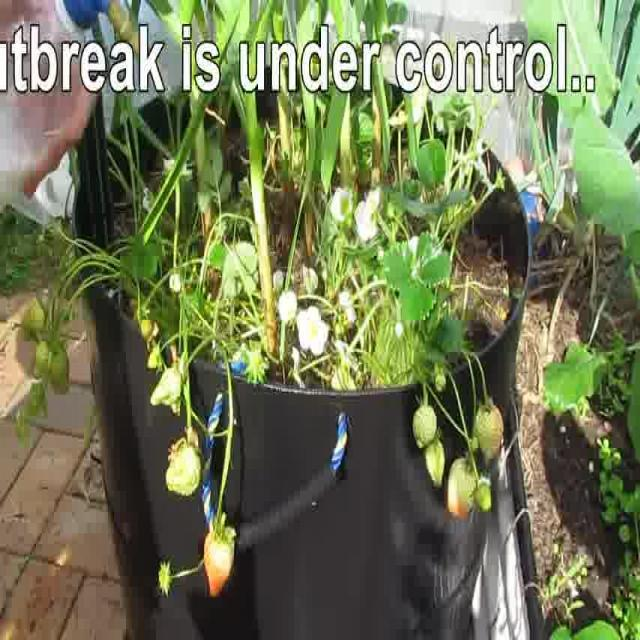Fruta sana: (204, 512, 238, 598), (165, 438, 202, 496), (150, 352, 186, 404), (33, 330, 60, 380), (48, 340, 70, 394), (21, 298, 47, 342), (473, 468, 493, 512), (26, 382, 48, 419), (156, 555, 174, 598), (331, 364, 356, 391), (145, 339, 164, 372), (15, 409, 30, 448), (432, 362, 447, 392), (140, 320, 154, 342)
Moho gris: (447, 436, 479, 520), (472, 396, 503, 458), (424, 426, 446, 492), (412, 394, 437, 449)
